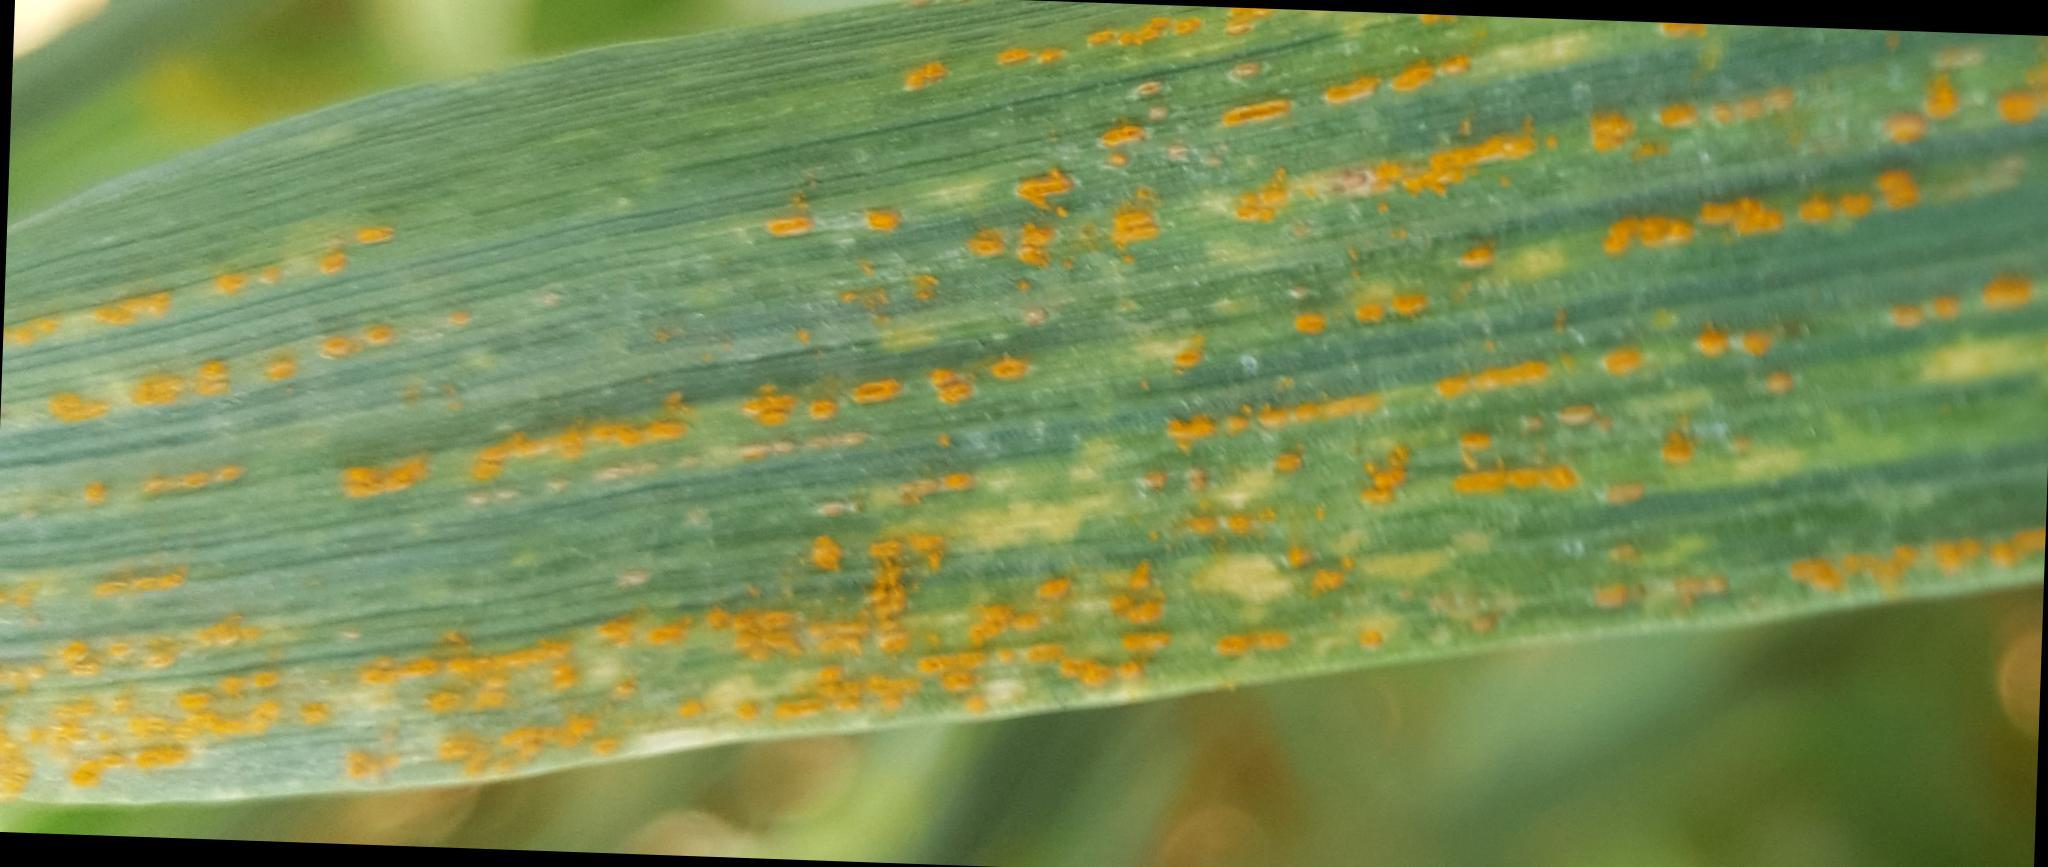Wheat: (716, 312, 1755, 731), (10, 196, 704, 800), (737, 37, 1801, 422)
